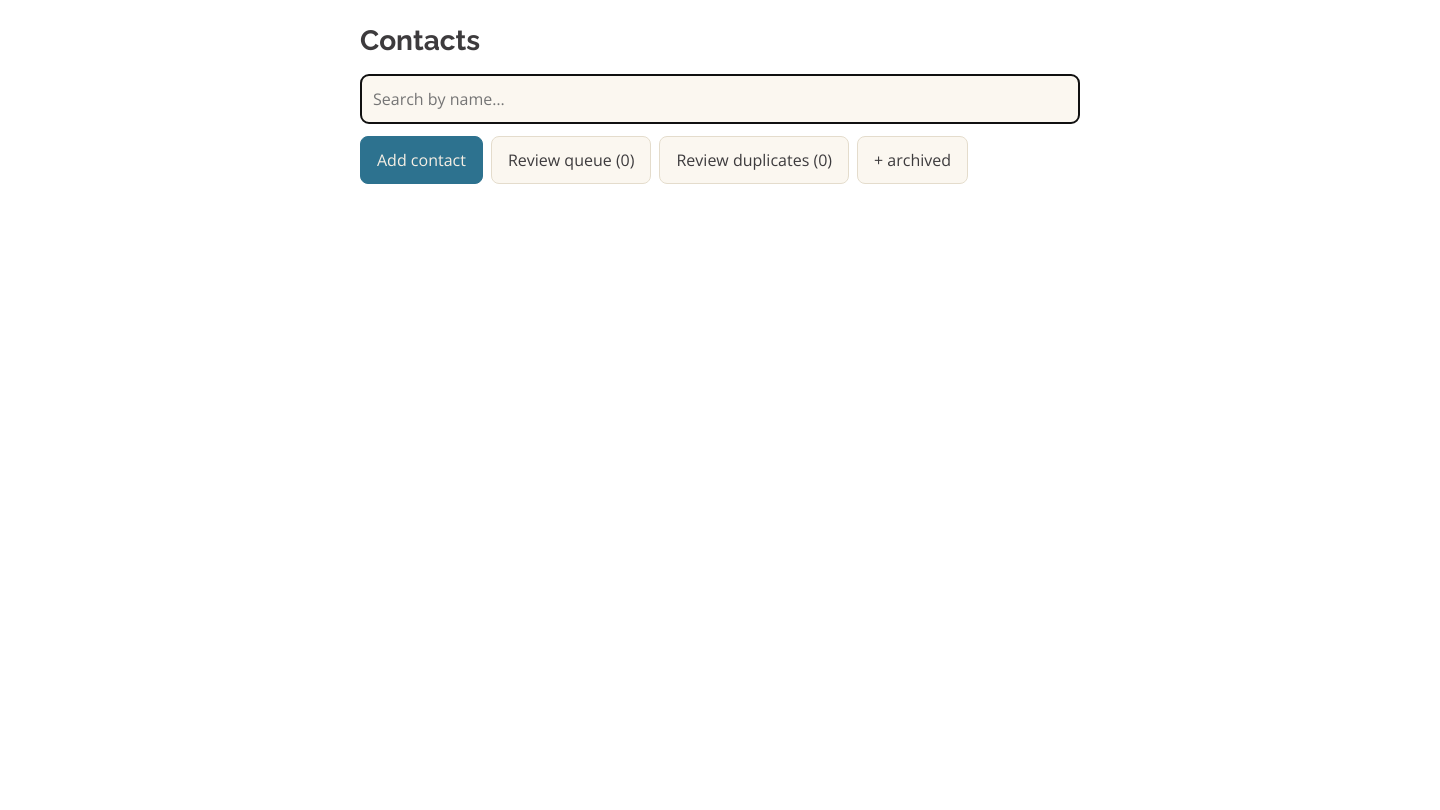
record editor (feature 063, via launcher) › opens pre-filled with a formatted phone
In the field with placeholder "Search by name…": (720, 99) left=360, top=74, right=1080, bottom=124, type "x"
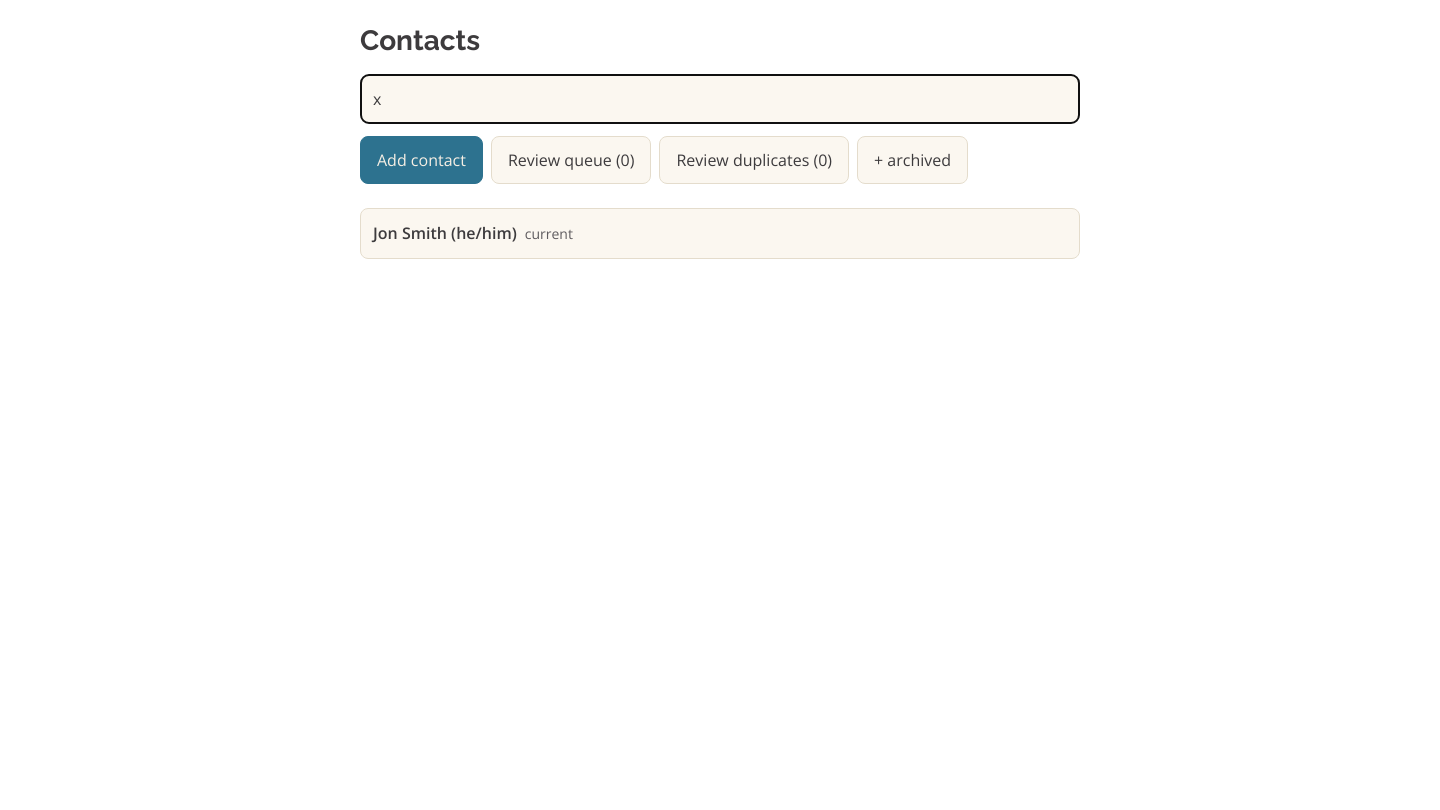
Click the button "Jon Smith (he/him) current": (410, 233) left=360, top=208, right=1080, bottom=259
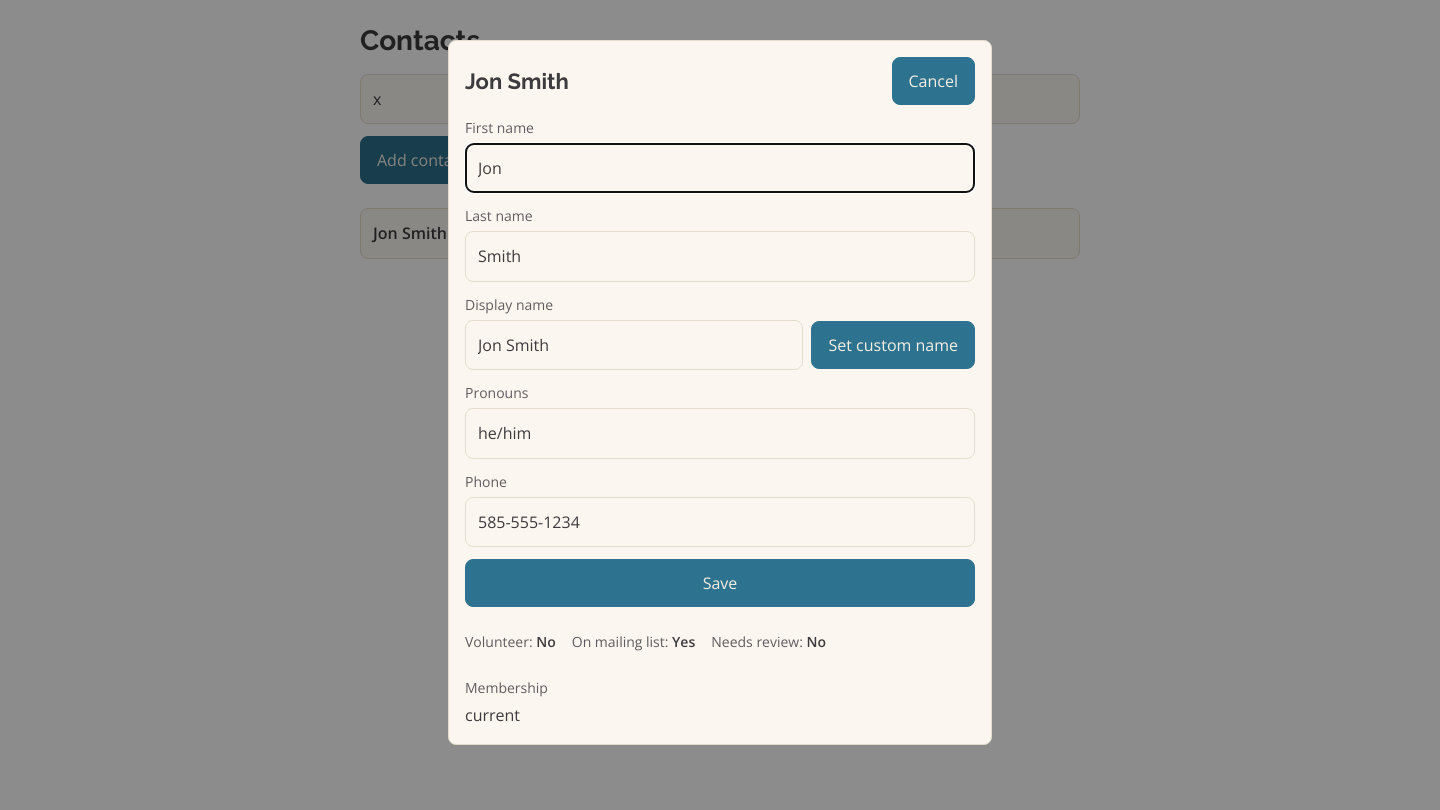
Check: the field labelled "First name" is shown, box left=465, top=143, right=975, bottom=194
Check: the field labelled "Last name" is shown, box left=465, top=231, right=975, bottom=282
Check: the field labelled "Display name" is shown, box left=465, top=320, right=804, bottom=370
